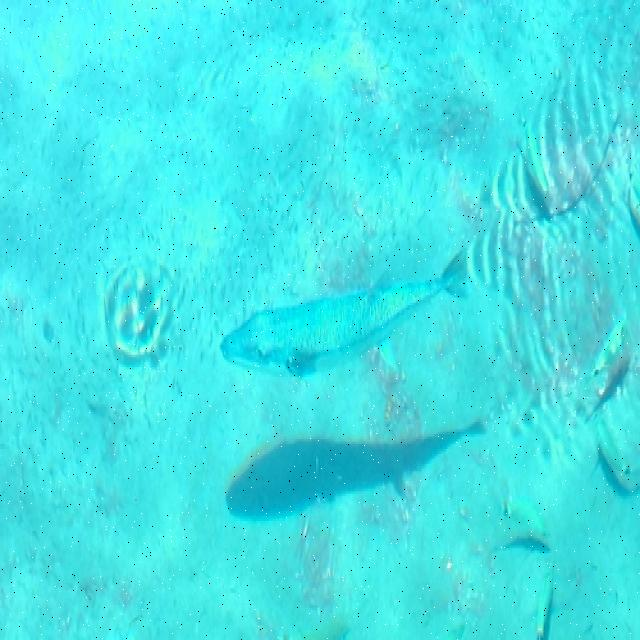Balik: (221, 251, 467, 377)
